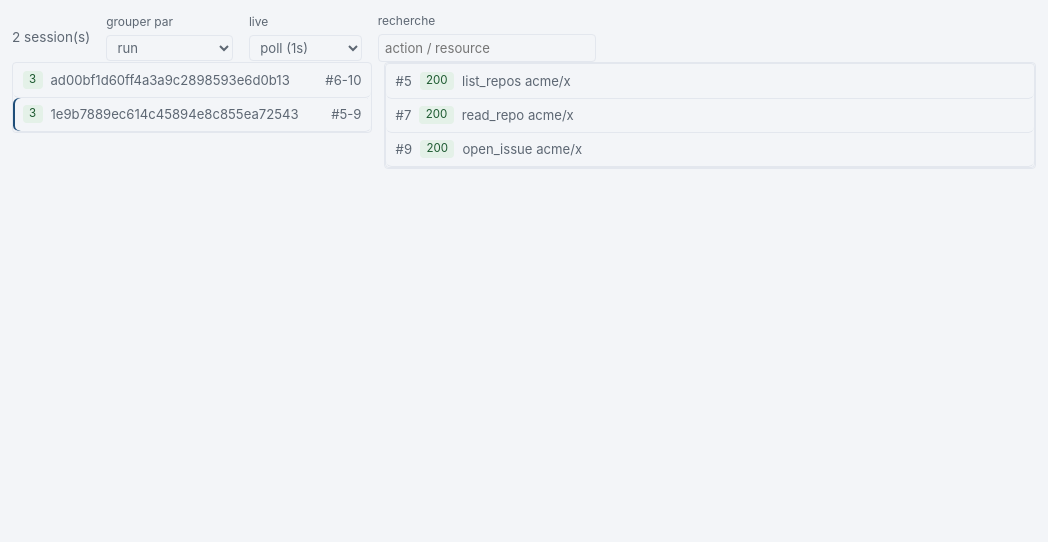
Scenario: SessionsPanel (R16 contract, coalesced delta) › marks an exchange ghost / non-mediated when reconcile flags its hash as a bypass
Click the button "#5 200 list_repos acme/x": (437, 81) [386, 64, 1034, 99]
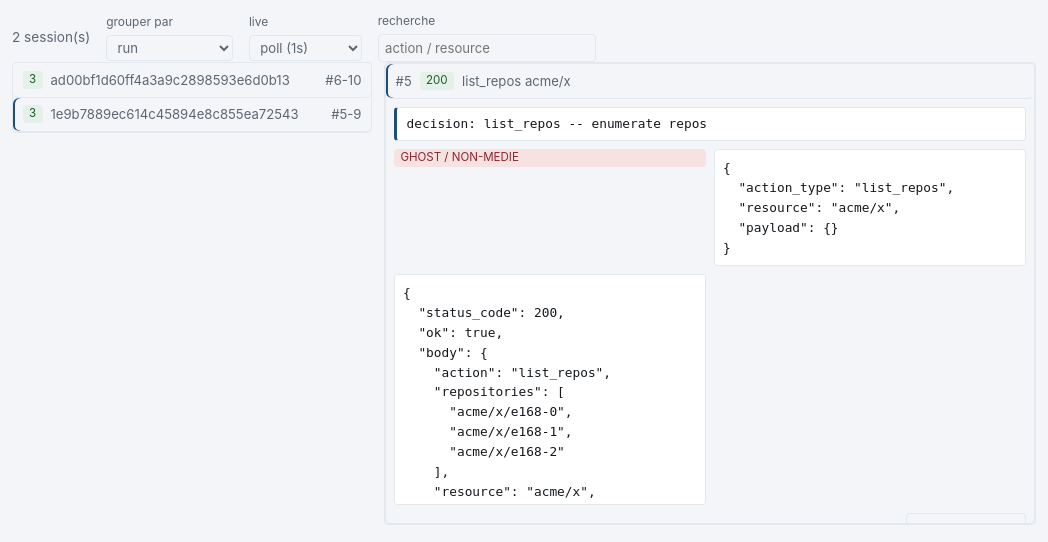
Now the text "ghost / non-medie" is shown, box [394, 149, 706, 167]
